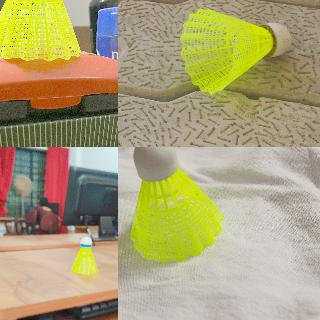shuttlecock: (130, 147, 224, 262), (180, 8, 290, 94), (0, 0, 82, 61), (70, 236, 100, 274)
